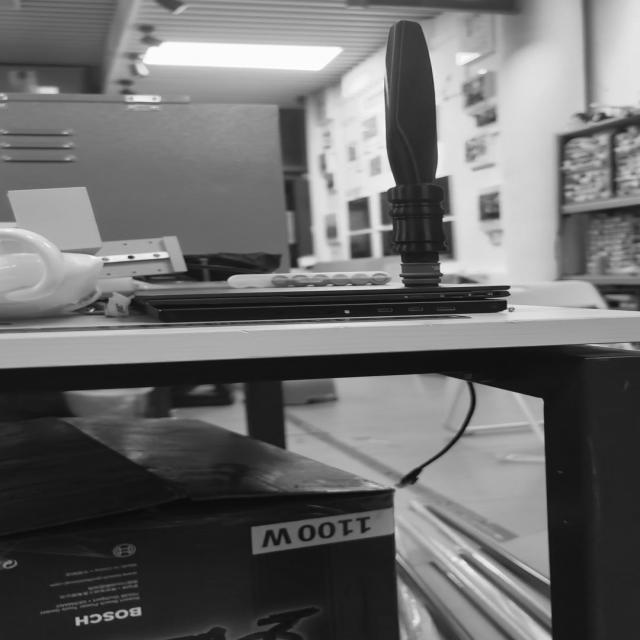base: (398, 262, 442, 288)
